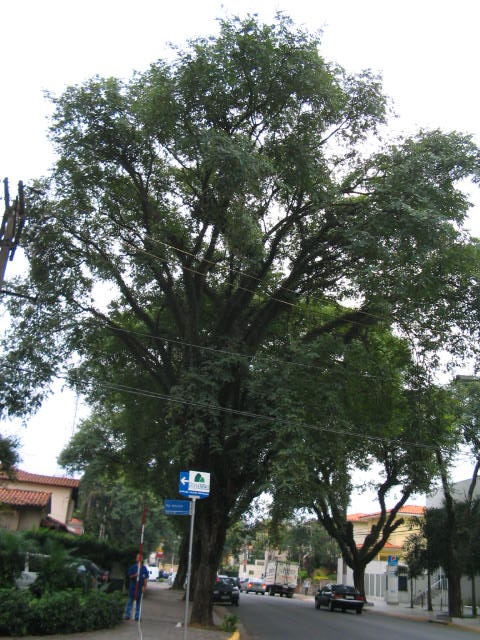crown: (4, 9, 479, 470), (262, 380, 461, 517)
stem: (183, 539, 223, 623), (347, 570, 372, 604)
stick: (127, 503, 154, 620)
tree: (2, 7, 478, 623), (259, 380, 463, 604)
